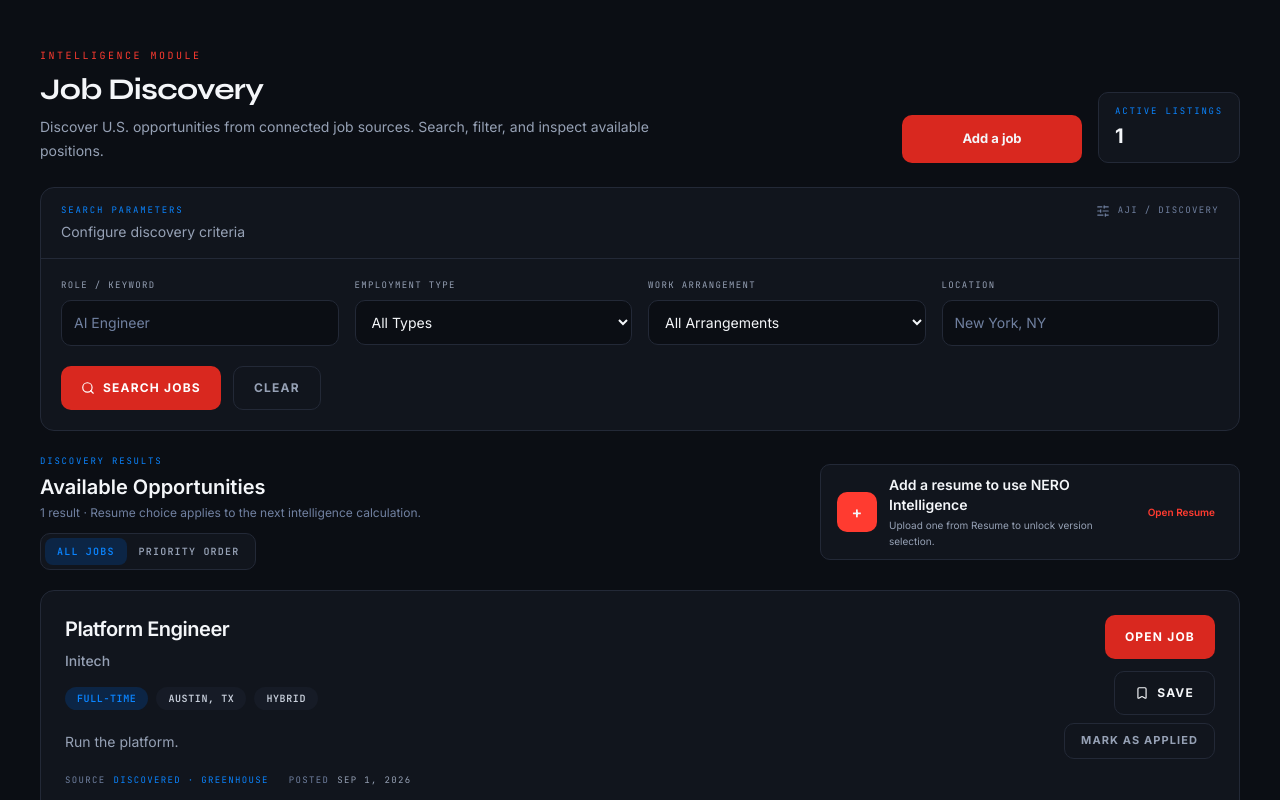
Test: Jobs page — search flow (AJI-023 Job Search) › never leaves the previous results under an error, and retries
Expected: the heading "Platform Engineer" is shown, [65,616,229,640]
Step 1. Type "data engineer" into the field labelled "Role / Keyword" → (200, 323), box [61,300,338,346]
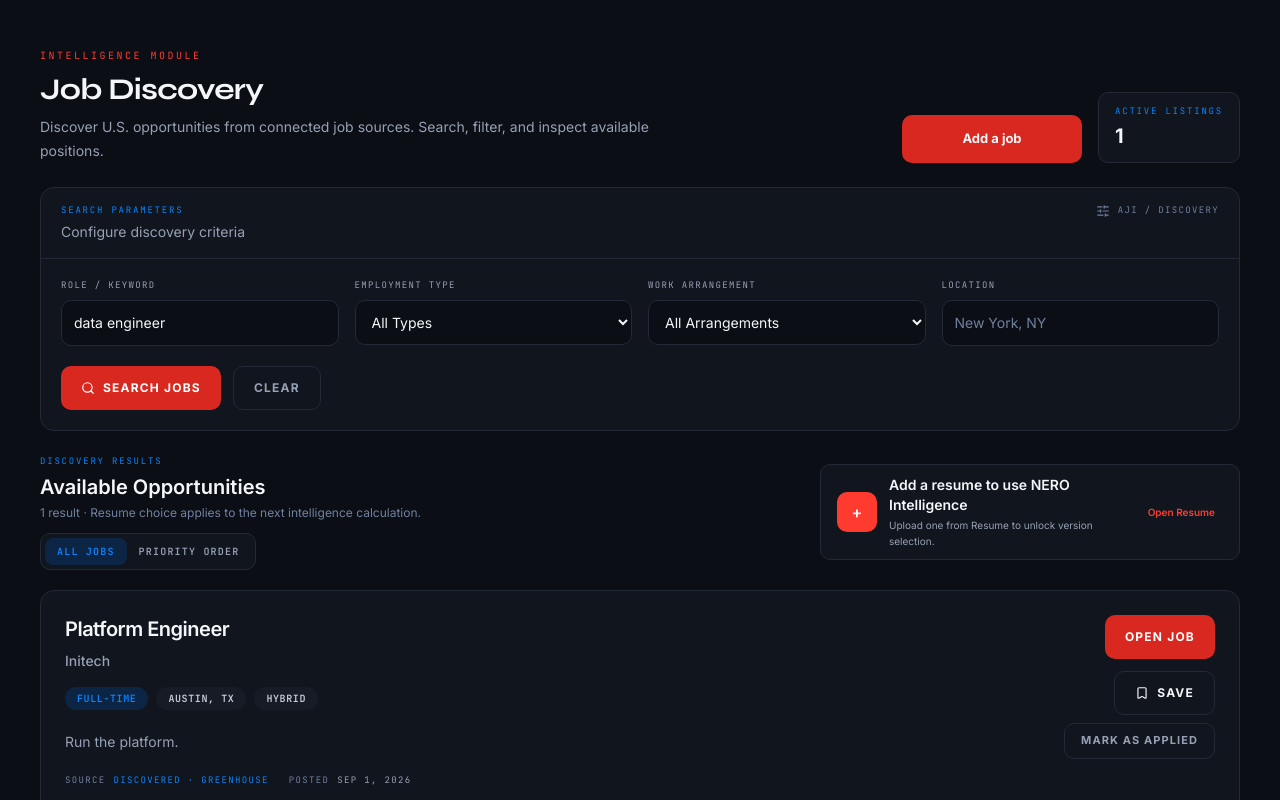
Step 2. Click the button "Search Jobs" → (141, 388), box [61,366,221,410]
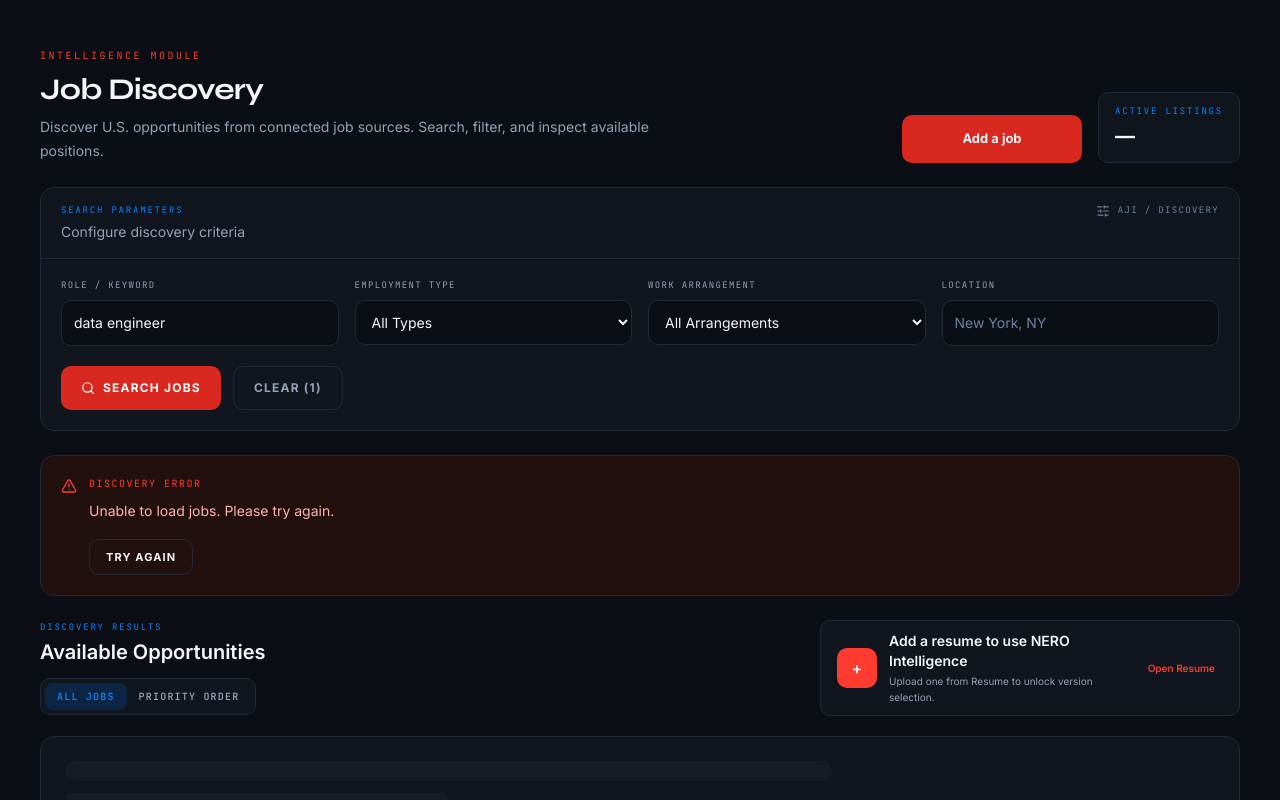
Result: the message shows "Unable to load jobs. Please try again." at [89,502,334,519]
Result: the heading "Platform Engineer" is gone
Step 3. Click the button "Try Again" → (141, 557), box [89,539,193,575]
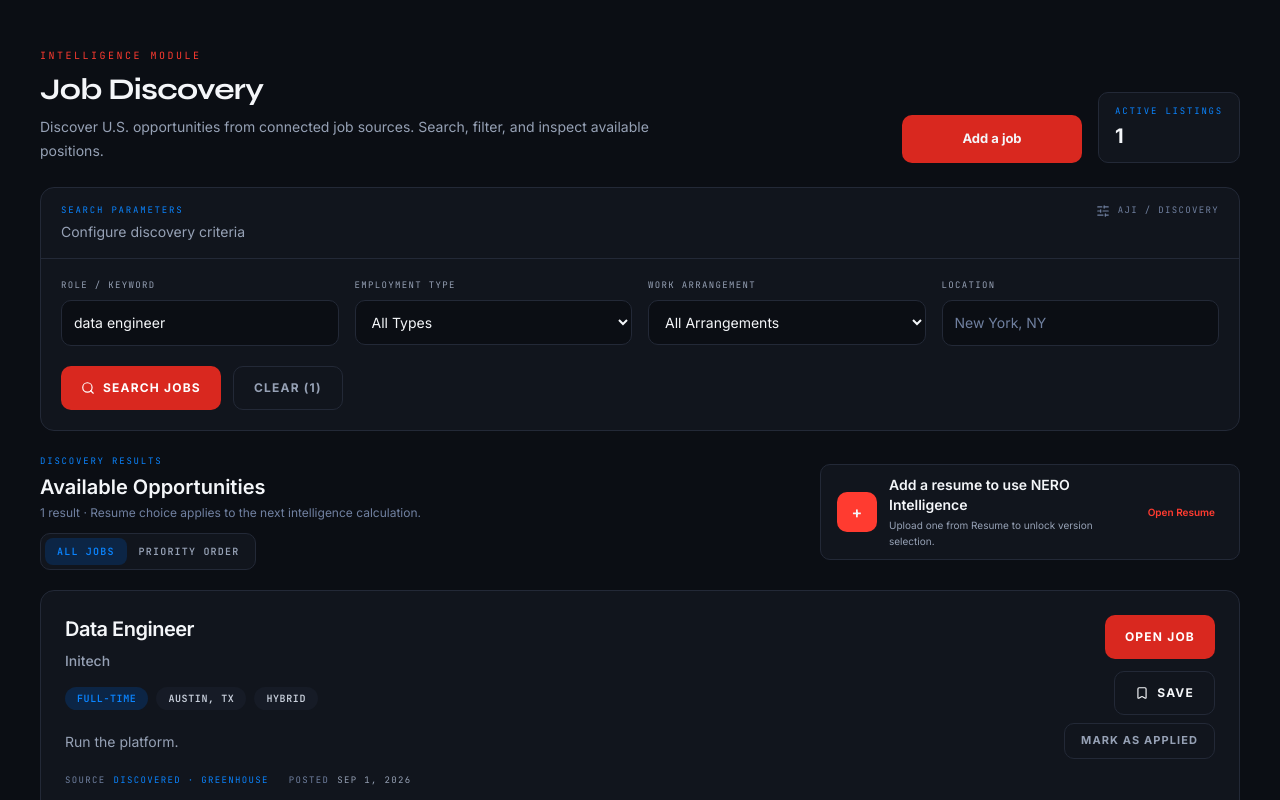
Result: the heading "Data Engineer" is shown at [65,616,194,640]
Result: the message "Discovery Error Unable to load jobs. Please try again. Try Again" is gone
